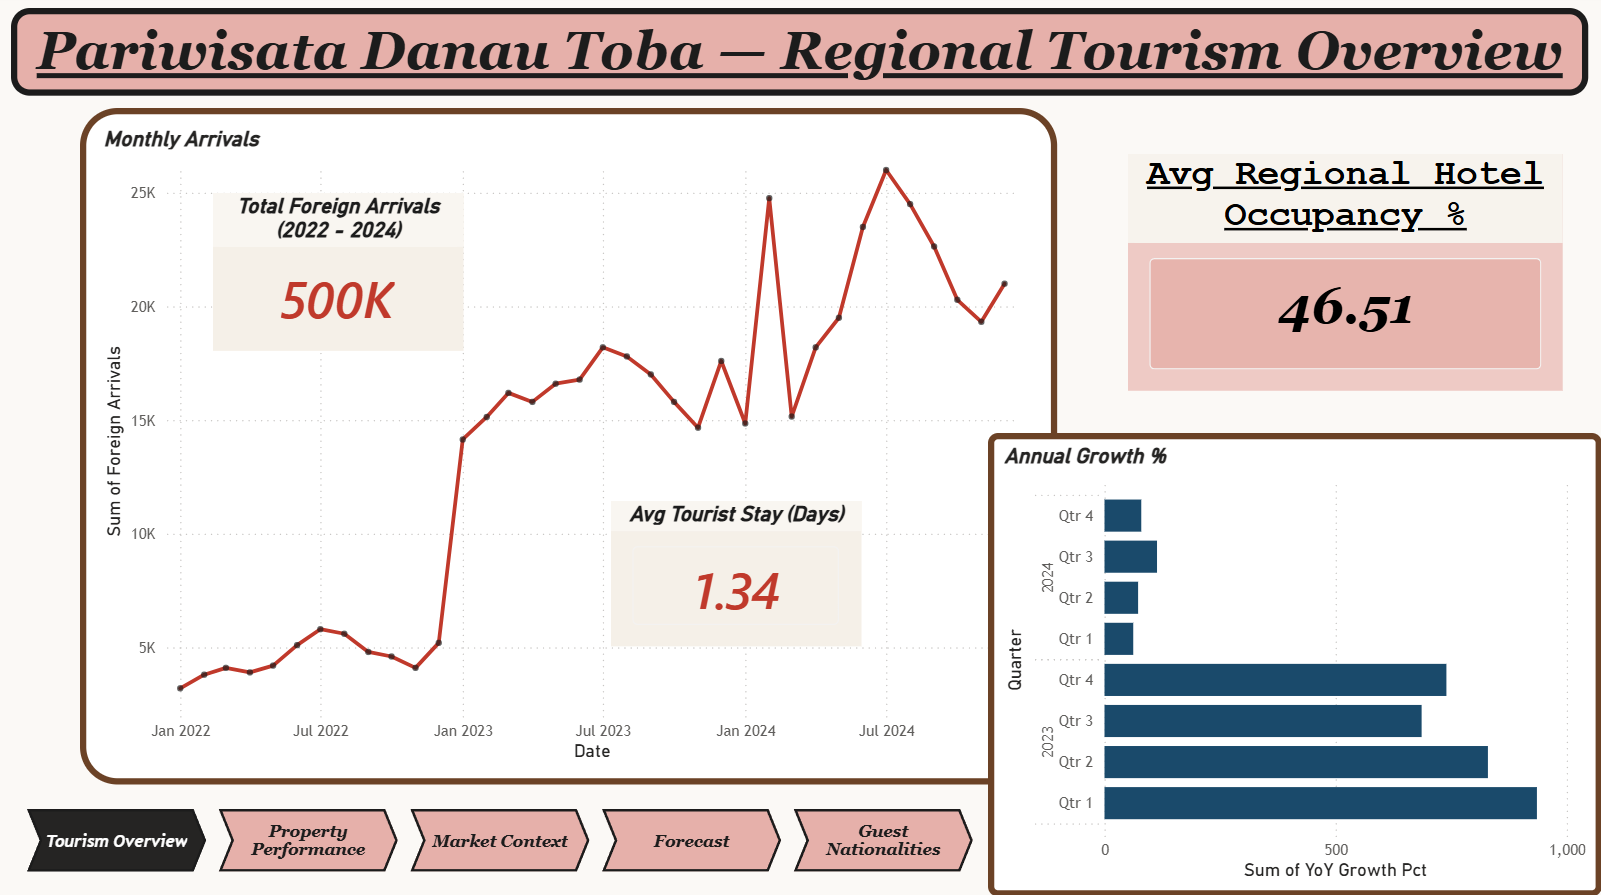

The page's visual inventory and layout, read from the dashboard file:
{"tool":"powerbi","page":{"name":"Tourism Overview","canvas":[1280,720],"ordinal":0},"visuals":[{"type":"lineChart","title":"Monthly Arrivals","fields":{"Y":["Sum(Tourism_Arrivals.Foreign Arrivals)"],"Category":["Tourism_Arrivals.Date"]},"box":[65.5,90,780,540],"z":0},{"type":"cardVisual","title":"Avg Regional Hotel Occupancy %","fields":{"Data":["Avg(Tourism_Arrivals.Hotel Occupancy Pct)"]},"box":[901.8,127.3,347.3,189.1],"z":2000},{"type":"barChart","title":"Annual Growth %","fields":{"Y":["Sum(Tourism_Arrivals.YoY Growth Pct)"],"Category":["Tourism_Arrivals.Date.Variation.Date Hierarchy.Year","Tourism_Arrivals.Date.Variation.Date Hierarchy.Quarter","Tourism_Arrivals.Date.Variation.Date Hierarchy.Month","Tourism_Arrivals.Date.Variation.Date Hierarchy.Day"]},"box":[790,350,490,370],"z":2500},{"type":"cardVisual","title":"Avg Tourist Stay (Days)","fields":{"Data":["Avg(Tourism_Arrivals.Avg Stay Days)"]},"box":[489.1,403.6,200,116.4],"z":3000},{"type":"cardVisual","title":"Total Foreign Arrivals (2022 - 2024)","fields":{"Data":["Sum(Tourism_Arrivals.Foreign Arrivals)"]},"box":[171.8,158.2,200,126.4],"z":4000},{"type":"textbox","box":[10,10,1259.2,70],"z":5000},{"type":"pageNavigator","box":[23.3,650,755,50],"z":6000}]}

Visuals, with their boxes in screenshot pixels (x1, y1, x2, y2), scaled from the page's 1280x720 canvas onto the 1601x895 screenshot:
"Monthly Arrivals" lineChart: <bbox>82, 112, 1058, 783</bbox>
"Avg Regional Hotel Occupancy %" cardVisual: <bbox>1128, 158, 1562, 393</bbox>
"Annual Growth %" barChart: <bbox>988, 435, 1600, 894</bbox>
"Avg Tourist Stay (Days)" cardVisual: <bbox>612, 502, 862, 646</bbox>
"Total Foreign Arrivals (2022 - 2024)" cardVisual: <bbox>215, 197, 465, 354</bbox>
textbox: <bbox>13, 12, 1587, 99</bbox>
pageNavigator: <bbox>29, 808, 973, 870</bbox>
